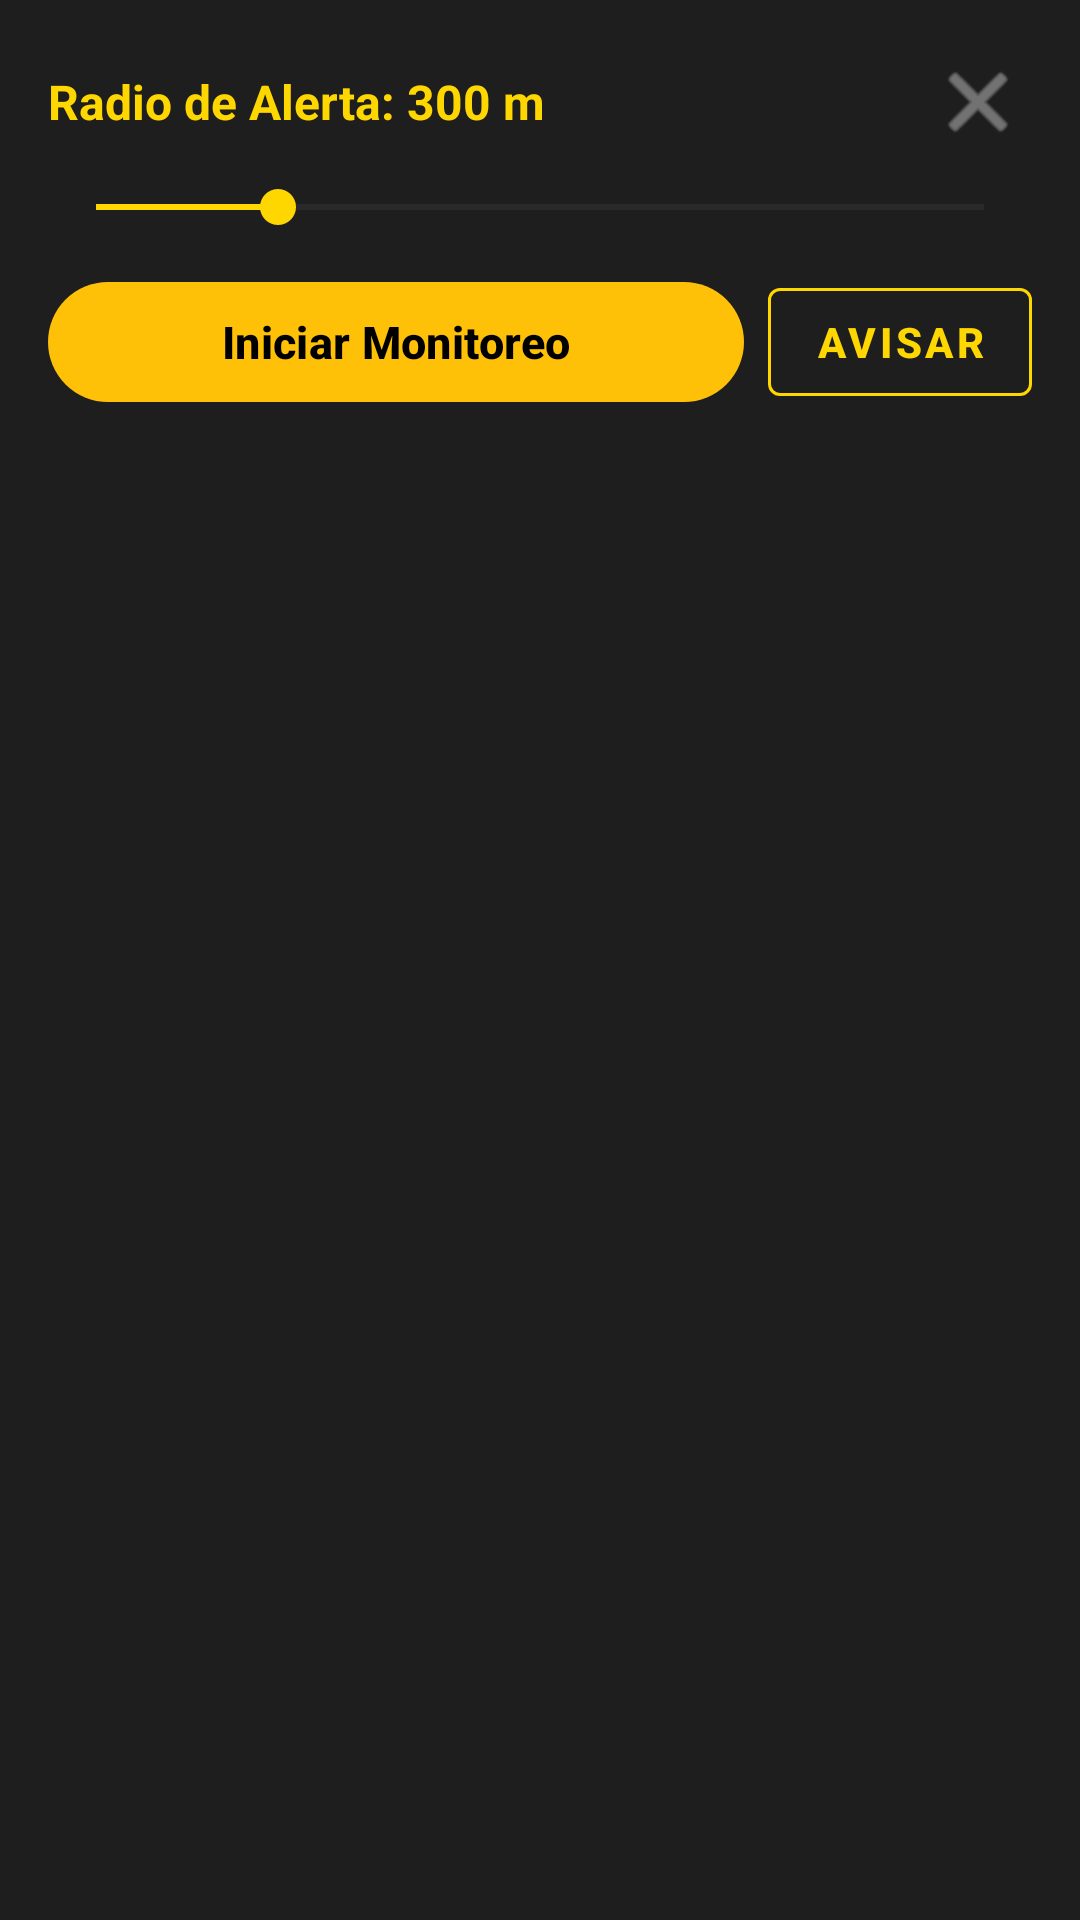

Locate icon controls on the screen. Image size 1080px x 1920px, boxes as [x1, y1, x2, y2].
Volver al menú inferior: [948, 72, 1008, 132]
